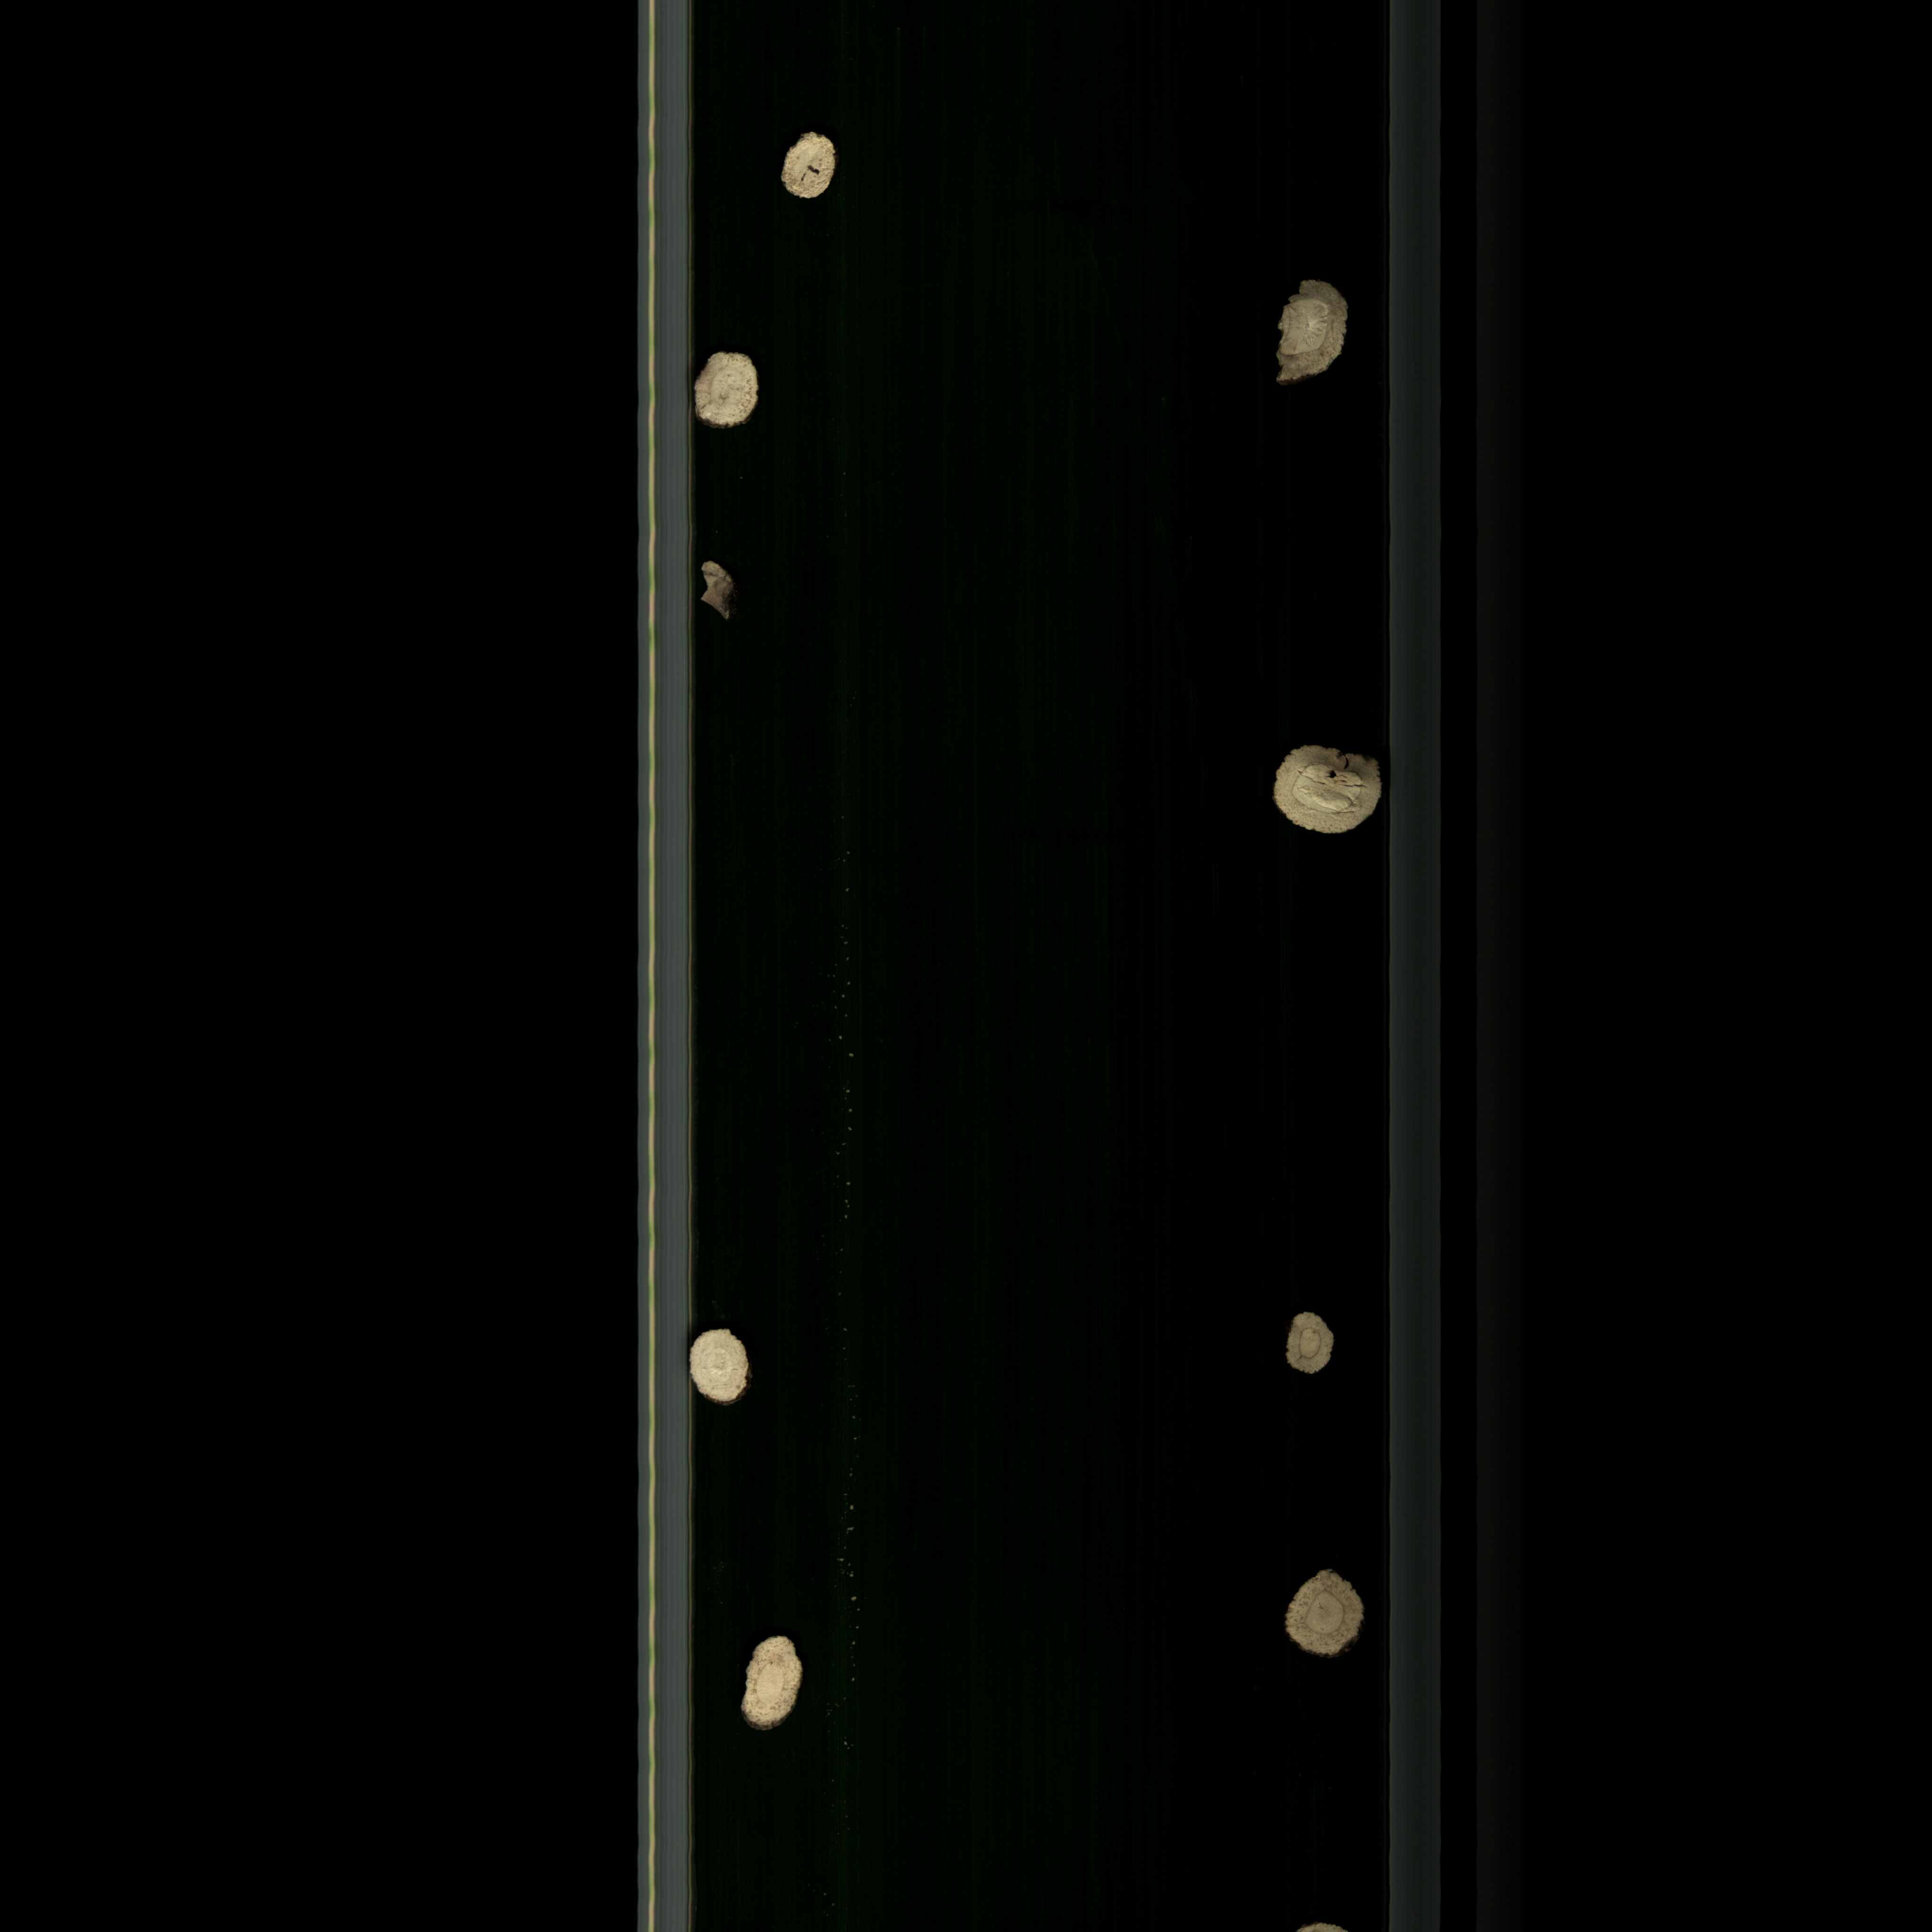hole: (1256, 732, 1391, 851), (778, 120, 839, 214)
moldy: (1267, 271, 1355, 393), (1277, 1564, 1371, 1668), (731, 1628, 809, 1737), (1279, 1307, 1339, 1385), (694, 552, 741, 628)
